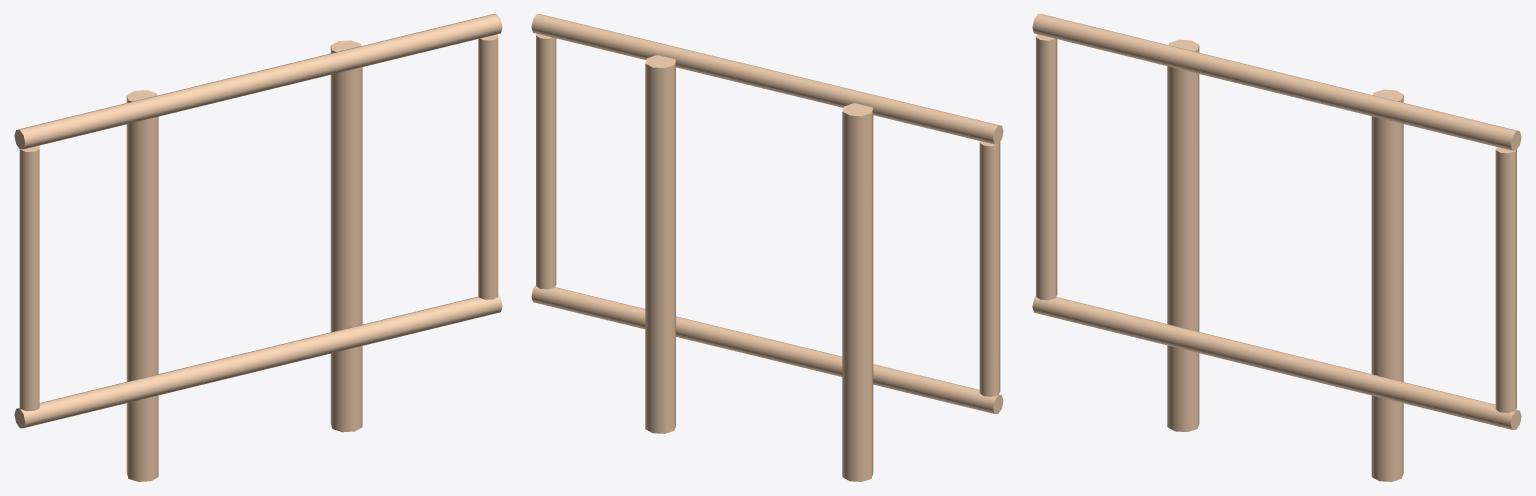
The model's file is OutdoorScreen_Frame.fbx.
The picture shows the model from 3 angles, left to right: view 1: azimuth 30°, elevation 25°; view 2: azimuth 150°, elevation 25°; view 3: azimuth 330°, elevation 25°; orthographic projection. The views are drawn at different scales.
Visible parts, largest first — view 1: OutdoorScreen_Frame1; view 2: OutdoorScreen_Frame1; view 3: OutdoorScreen_Frame1.
Boxes of the visible parts, box(x1,y1,x2,y2) form: OutdoorScreen_Frame1: box(14, 14, 502, 481); OutdoorScreen_Frame1: box(531, 14, 1003, 481); OutdoorScreen_Frame1: box(1032, 14, 1521, 481).
Size of the model in its own units: 308 by 238 by 28.38.
